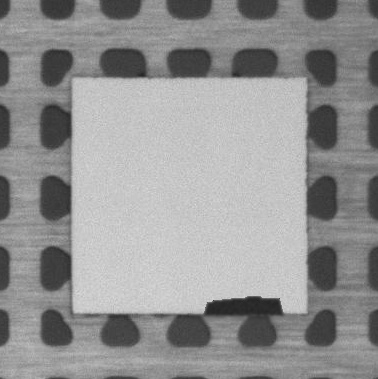DIE_BROKEN: (204, 295, 285, 317)
